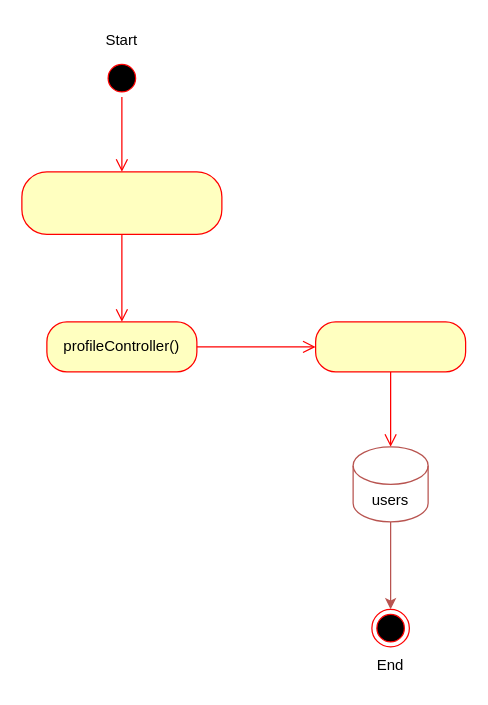
The diagram is 488 pixels wide and 705 high, and some of its shapes have lost their labels. Here are the shapes that lost their labels. From the top down, the centre of each, then its label:
At [121,202]: "profileMiddleware() check jwt token".
At [390,346]: "PostgreREST".
